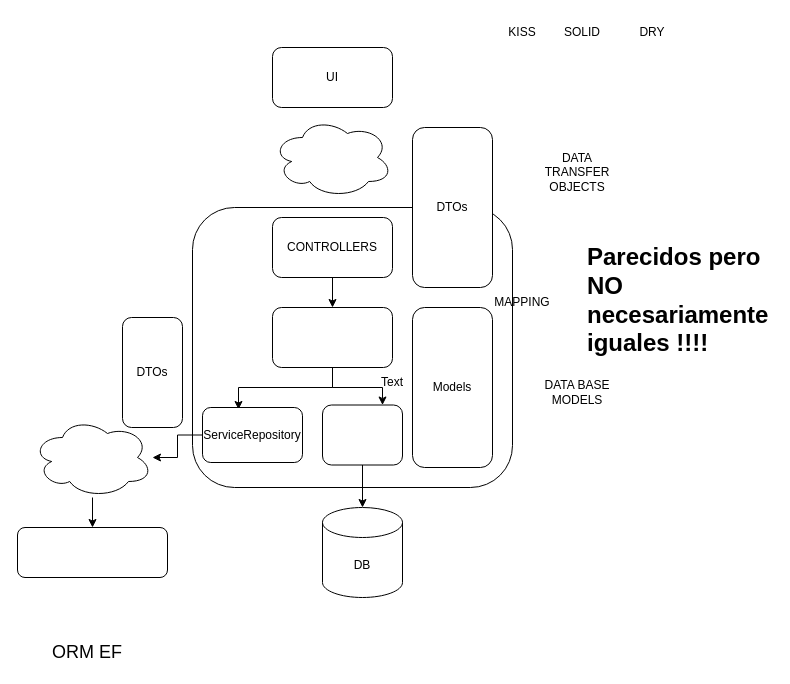
The diagram is 790 pixels wide and 684 high, and some of its shapes have lost their labels. Here are the shapes that lost their labels. From the top down, the centre of each, then its label:
At pixel 332 337: "SERVICES".
At pixel 362 434: "Repository".
At pixel 92 552: "EXTERNAL SERVICE".
